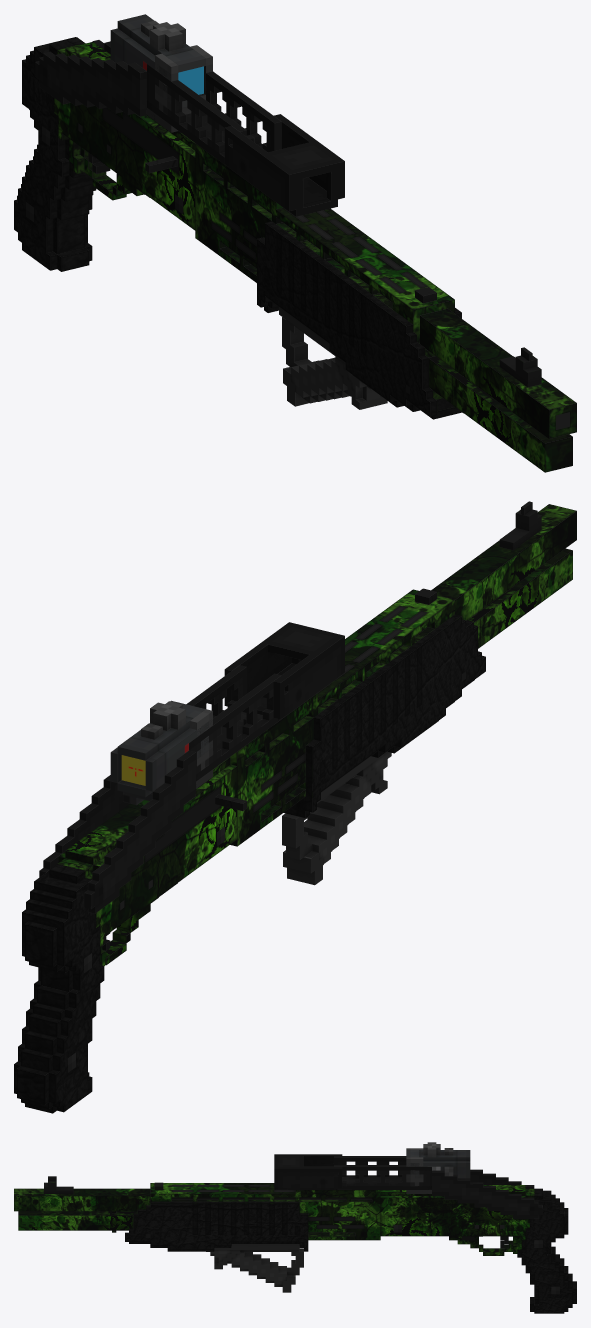
The model's file is RD_ZSPAS12.glb.
The picture shows the model from 3 angles, top to bottom: view 1: azimuth 30°, elevation 25°; view 2: azimuth 150°, elevation 25°; view 3: azimuth 270°, elevation 25°; orthographic projection. The views are drawn at different scales.
Visible parts, largest first — view 1: SPAS12, SPAS12_STOCK_P1, SPAS12_STOCK_P2, GRIP2, SCOPE_TASCO, SCOPE_HOLOSUN; view 2: SPAS12, SPAS12_STOCK_P1, SPAS12_STOCK_P2, GRIP2, SCOPE_TASCO, SCOPE_HOLOSUN; view 3: SPAS12, SPAS12_STOCK_P1, GRIP2, SPAS12_STOCK_P2, SCOPE_TASCO, SCOPE_HOLOSUN.
Part boxes in pixels (box(x1,y1,x2,y2)): SPAS12: box(14, 37, 576, 472); SPAS12_STOCK_P1: box(35, 40, 281, 175); SPAS12_STOCK_P2: box(224, 114, 344, 216); GRIP2: box(279, 307, 387, 409); SCOPE_TASCO: box(110, 14, 212, 123); SCOPE_HOLOSUN: box(147, 45, 212, 132); SPAS12: box(14, 501, 576, 1113); SPAS12_STOCK_P1: box(39, 665, 281, 913); SPAS12_STOCK_P2: box(224, 622, 344, 720); GRIP2: box(282, 751, 391, 885); SCOPE_TASCO: box(110, 701, 212, 805); SCOPE_HOLOSUN: box(170, 700, 212, 788); SPAS12: box(14, 1174, 576, 1313); SPAS12_STOCK_P1: box(334, 1156, 542, 1218); GRIP2: box(206, 1244, 303, 1292); SPAS12_STOCK_P2: box(274, 1154, 342, 1189); SCOPE_TASCO: box(406, 1142, 470, 1193); SCOPE_HOLOSUN: box(406, 1148, 431, 1193).
Size of the model in its own units: 0.1083 by 0.4134 by 1.3.
6 materials, 6 textured.
